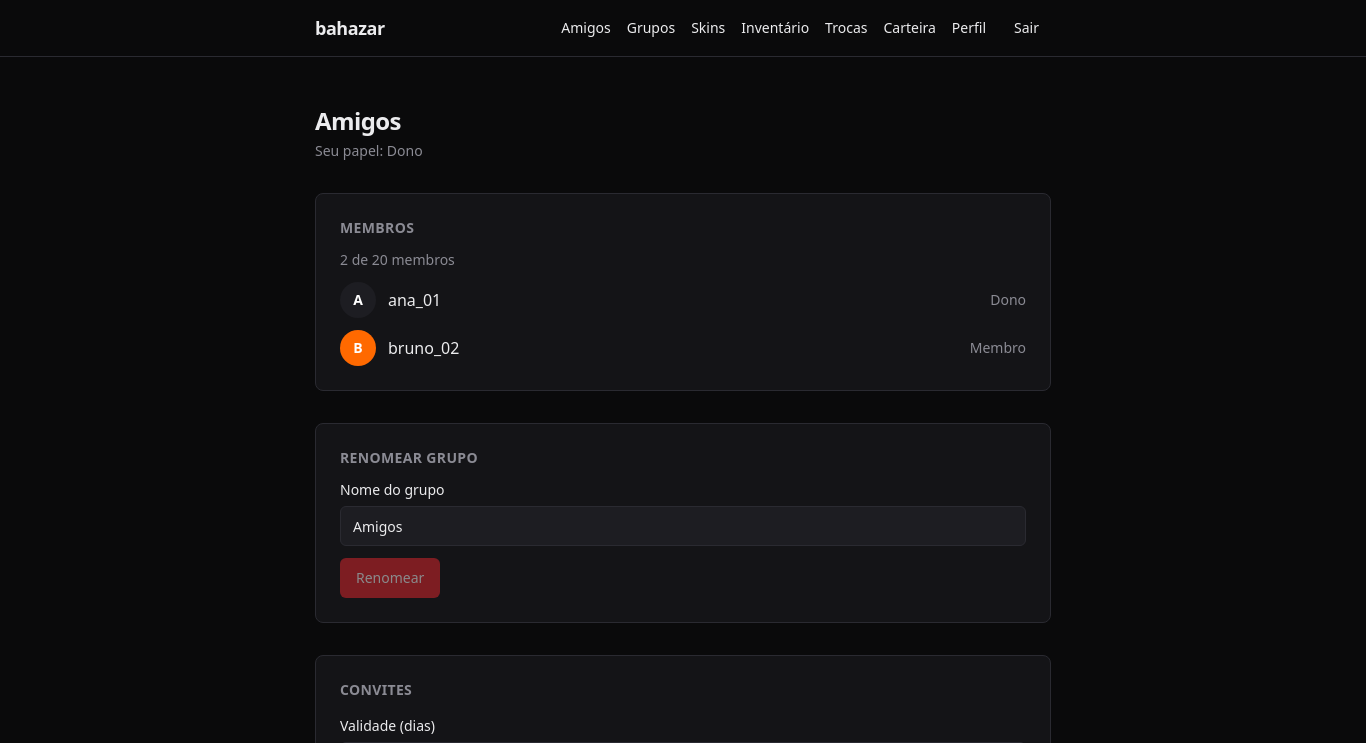
Test: RoomDetailPage › erro ao renomear mostra a mensagem própria, nunca o texto do servidor
Replace the text in the field labelled "Nome do grupo" with "Outro": coordinates (683, 526) [340, 506, 1026, 546]
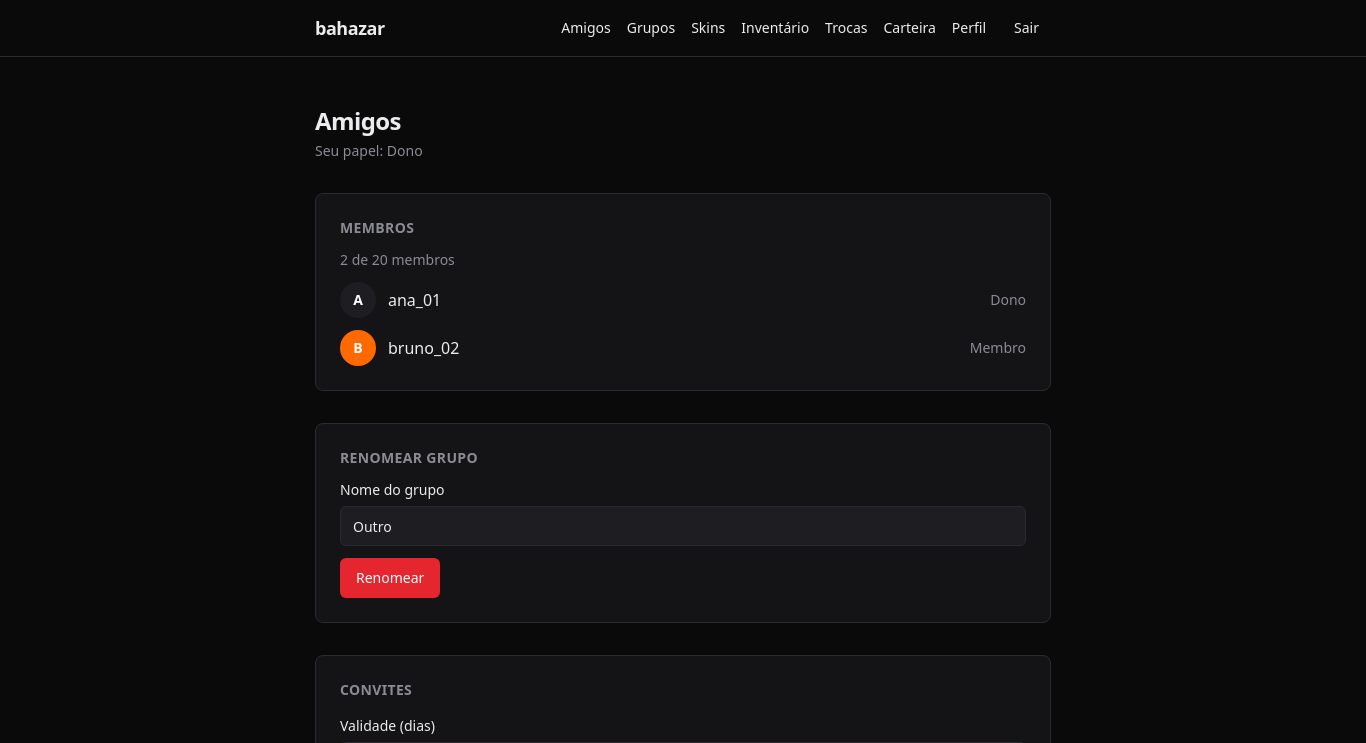
Click the button "Renomear": coordinates (390, 578) [340, 558, 440, 598]
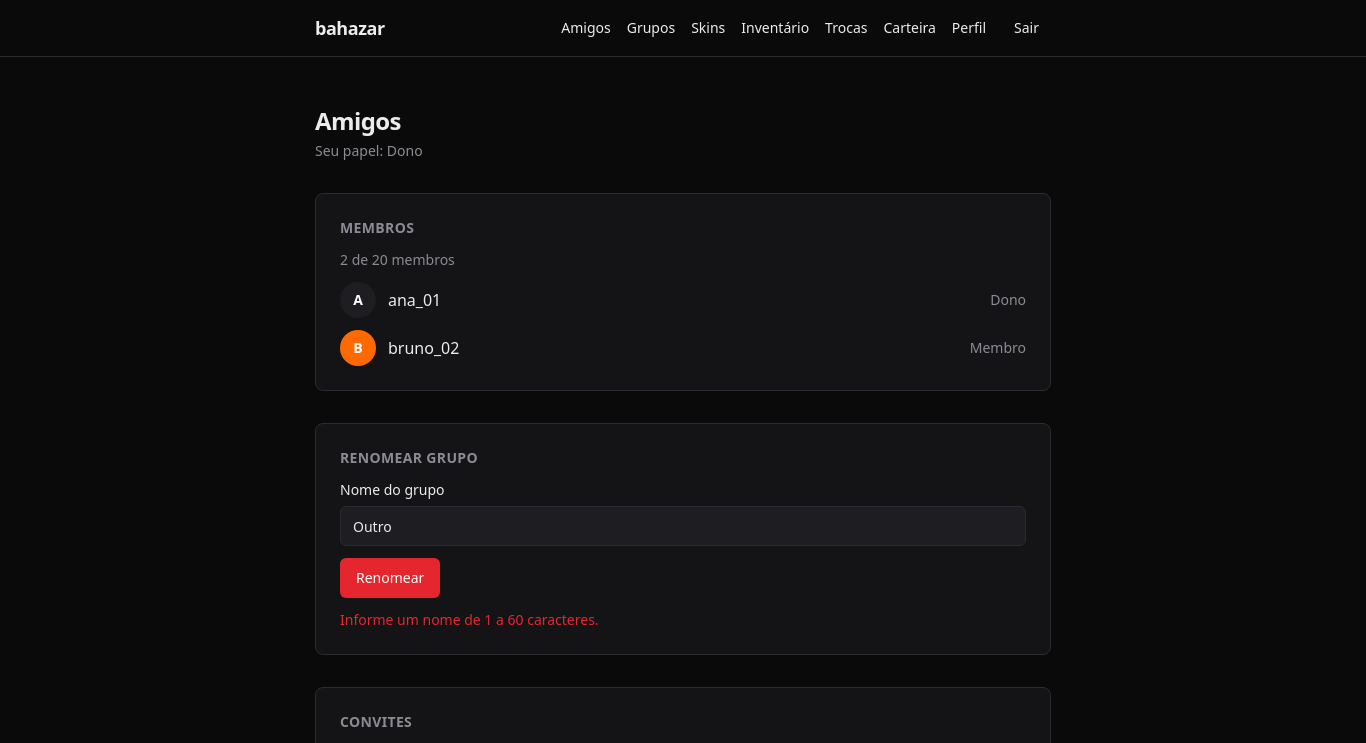
Expected: the message does not show "Ensure", [340, 610, 599, 629]
Result: the message reads "Informe um nome de 1 a 60 caracteres." at [340, 610, 599, 629]
